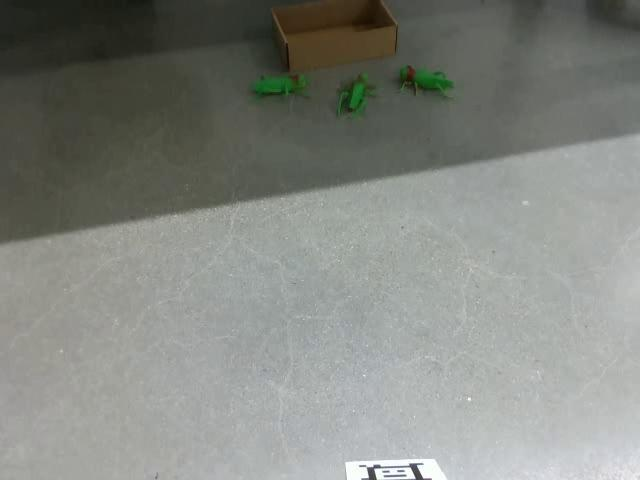box: (269, 0, 398, 74)
grasshopper: (398, 63, 454, 98), (335, 71, 375, 117), (252, 71, 309, 98)
